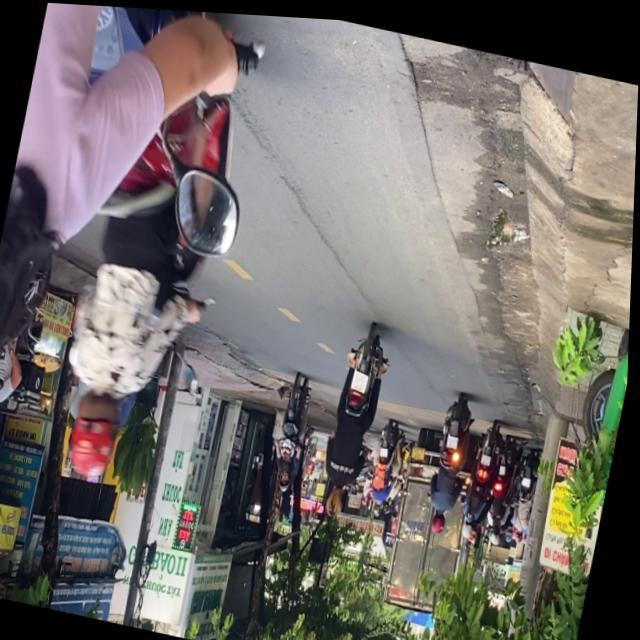helmet: (63, 383, 131, 483), (433, 504, 449, 529), (280, 467, 293, 489)
licenseplate: (0, 0, 281, 627), (6, 1, 281, 505), (313, 314, 399, 521), (422, 384, 482, 533)
motorcyclist: (326, 481, 347, 514)
nohelmet: (352, 365, 370, 388), (448, 427, 461, 443)
